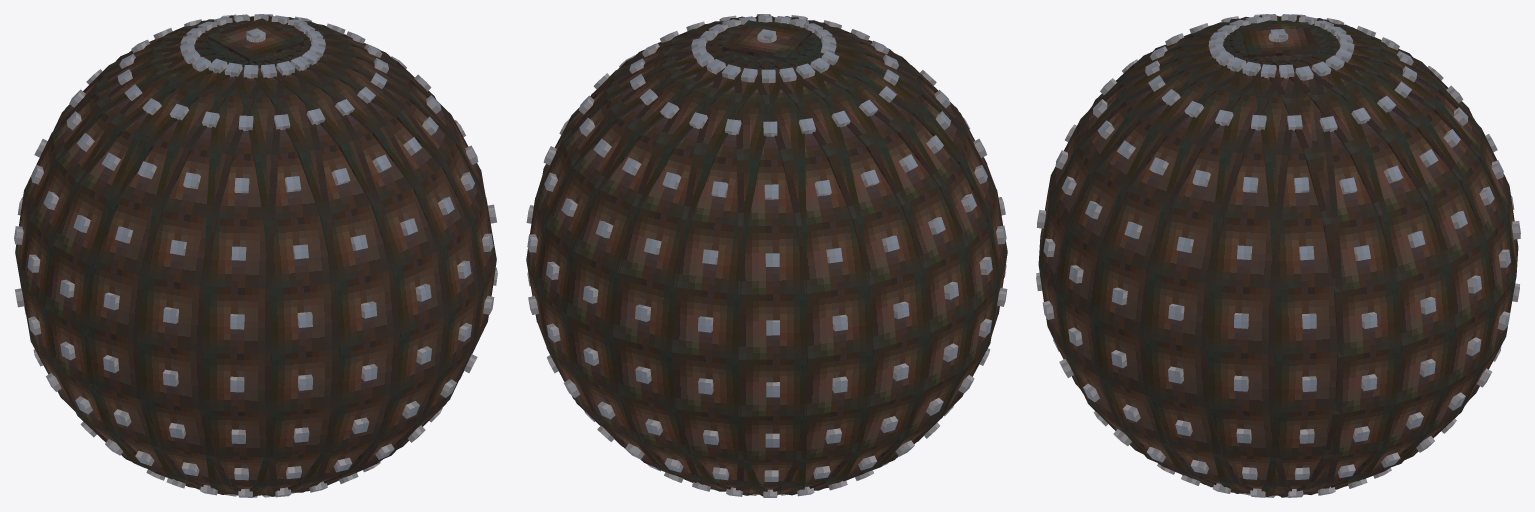
Rendered from trap-6_3.glb.
3 renders of one model, left to right at view 1: azimuth 30°, elevation 25°; view 2: azimuth 150°, elevation 25°; view 3: azimuth 270°, elevation 25°, orthographic.
Visible parts, largest first — view 1: 2$$(1)-Local; view 2: 2$$(1)-Local; view 3: 2$$(1)-Local.
Boxes of the visible parts, <box> form: 2$$(1)-Local: <box>14,14,497,497</box>; 2$$(1)-Local: <box>526,14,1007,497</box>; 2$$(1)-Local: <box>1036,14,1520,497</box>.
Size of the model in its own units: 0.9964 by 1.02 by 1.
1 material, 1 textured.
